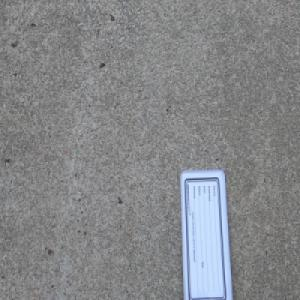LuggageTag: (177, 165, 234, 300)
